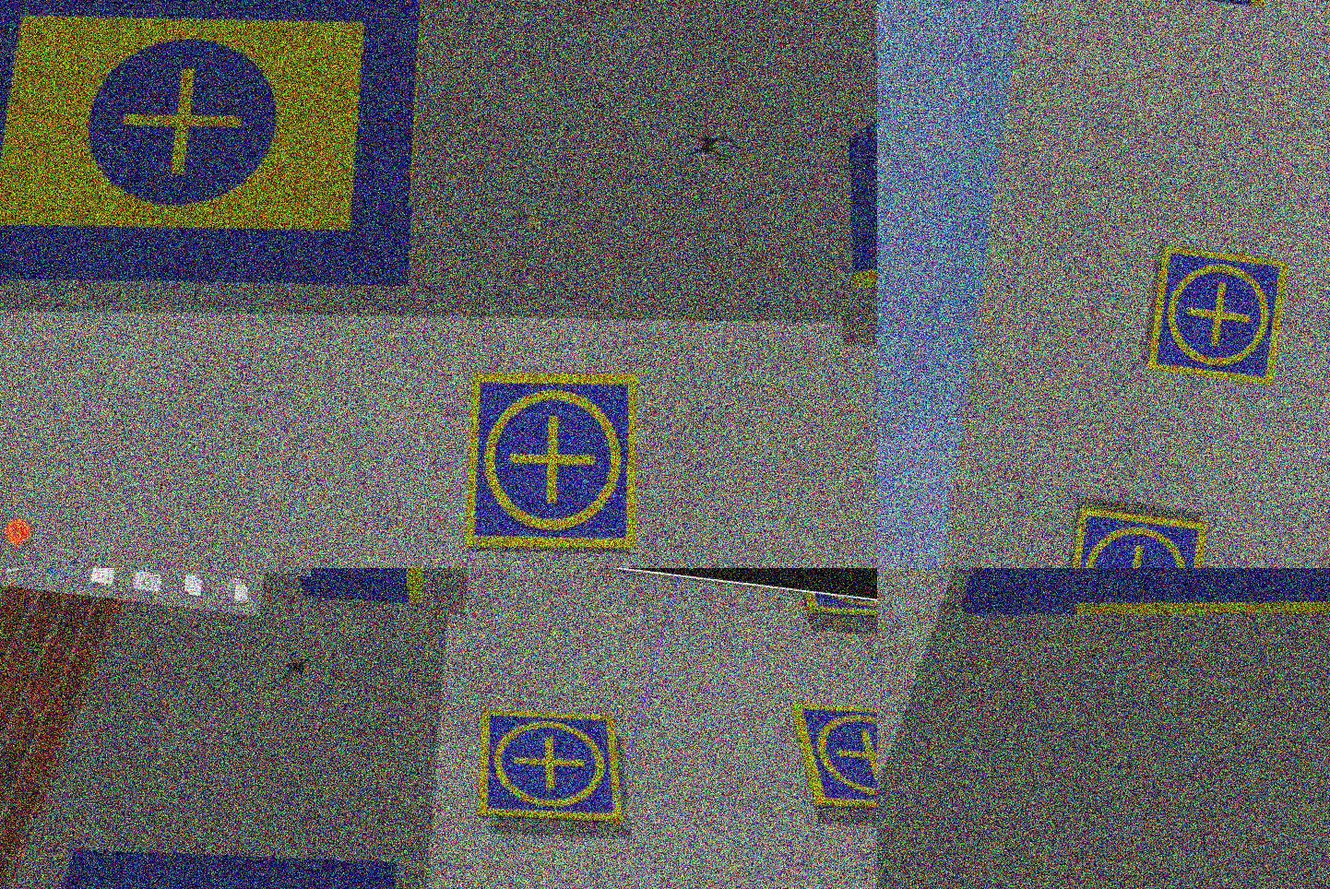large_base: (1, 1, 447, 339), (962, 568, 1330, 665)
small_base: (451, 350, 657, 568), (466, 702, 637, 841), (1149, 245, 1287, 389), (783, 698, 877, 831), (1062, 505, 1211, 568)
